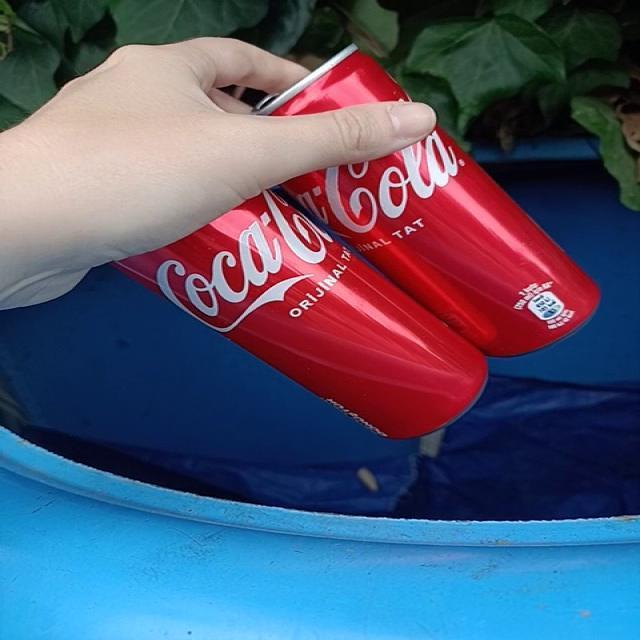Bin: (1, 140, 640, 640)
Metal: (116, 130, 600, 439), (260, 46, 409, 114)
